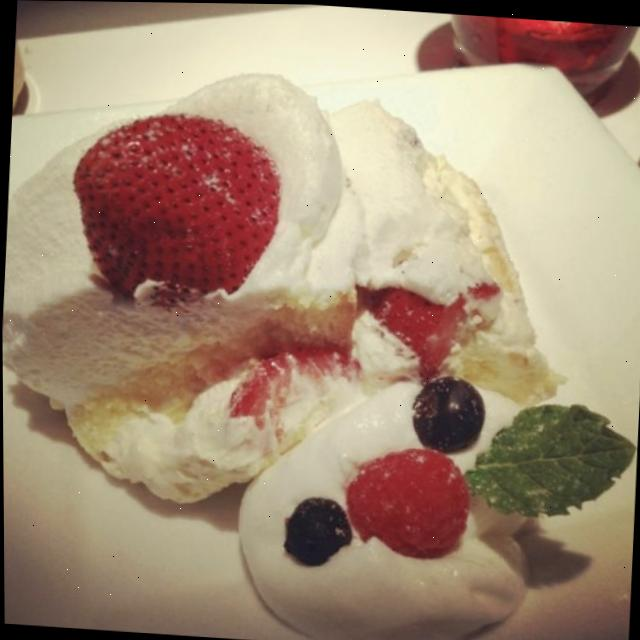蛋糕甜品: (3, 24, 627, 638)
